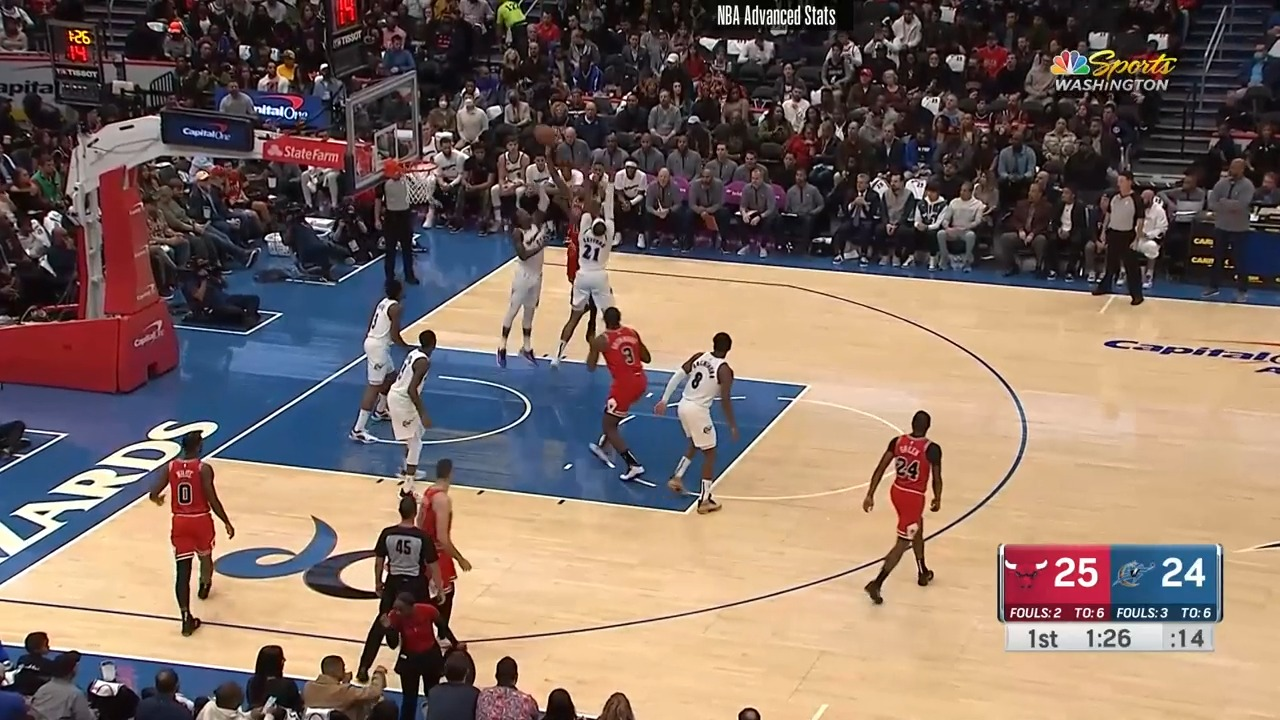net: (380, 154, 443, 198)
player: (147, 430, 236, 642), (853, 406, 944, 608), (356, 497, 443, 688), (660, 330, 745, 517), (552, 152, 624, 371), (581, 306, 655, 488), (375, 325, 449, 498), (407, 458, 472, 650), (362, 277, 422, 442), (502, 199, 558, 366), (543, 151, 590, 281)
referee: (1099, 171, 1153, 308), (371, 171, 424, 287)
